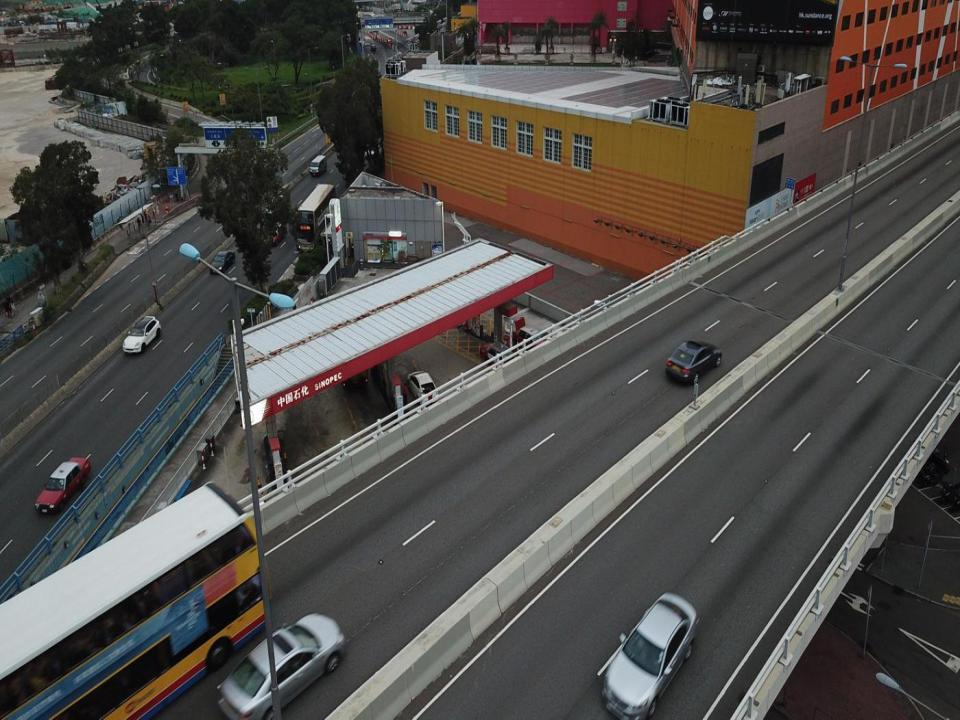bus: (0, 484, 269, 719), (289, 181, 338, 255)
car: (218, 609, 345, 719), (603, 590, 698, 714), (27, 454, 90, 515), (664, 333, 723, 383), (332, 338, 368, 387), (122, 314, 162, 354), (406, 366, 440, 411), (256, 213, 286, 246), (208, 248, 235, 280), (370, 42, 376, 50)
van: (308, 154, 327, 176)
